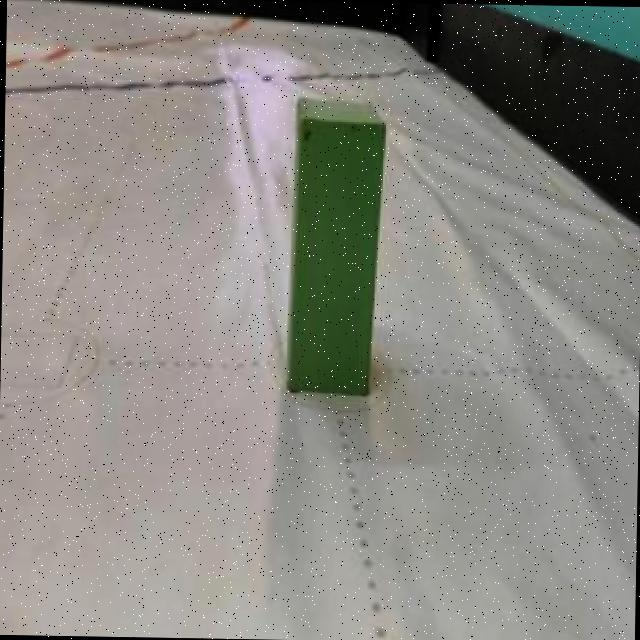greenbox: (288, 95, 387, 394)
